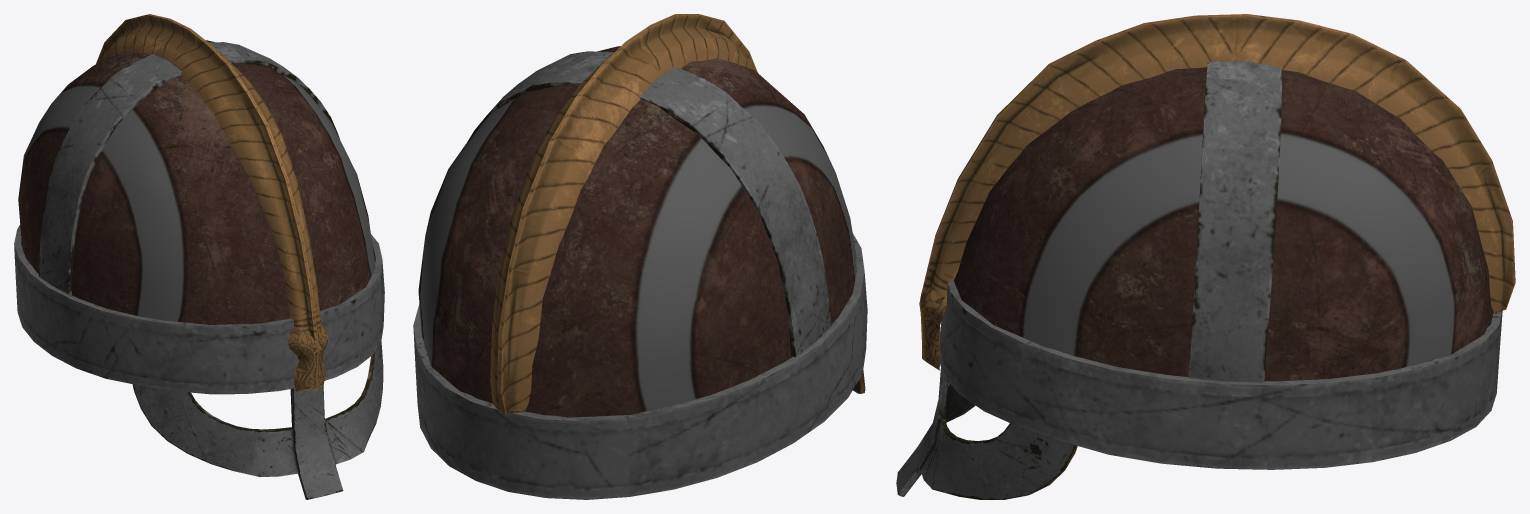
File: cts_rohan_helmet4b.fbx
3 renders of one model, left to right at view 1: azimuth 30°, elevation 25°; view 2: azimuth 150°, elevation 25°; view 3: azimuth 270°, elevation 25°, orthographic. The views are drawn at different scales.
Visible parts, largest first — view 1: cts_rohan_helmet4b; view 2: cts_rohan_helmet4b; view 3: cts_rohan_helmet4b.
Part boxes in pixels (<box>): cts_rohan_helmet4b: <box>14,14,384,499</box>; cts_rohan_helmet4b: <box>413,14,867,499</box>; cts_rohan_helmet4b: <box>896,14,1515,499</box>.
Size of the model in its own units: 0.1901 by 0.2656 by 0.223.
Materials: 1 (1 with a texture image).
